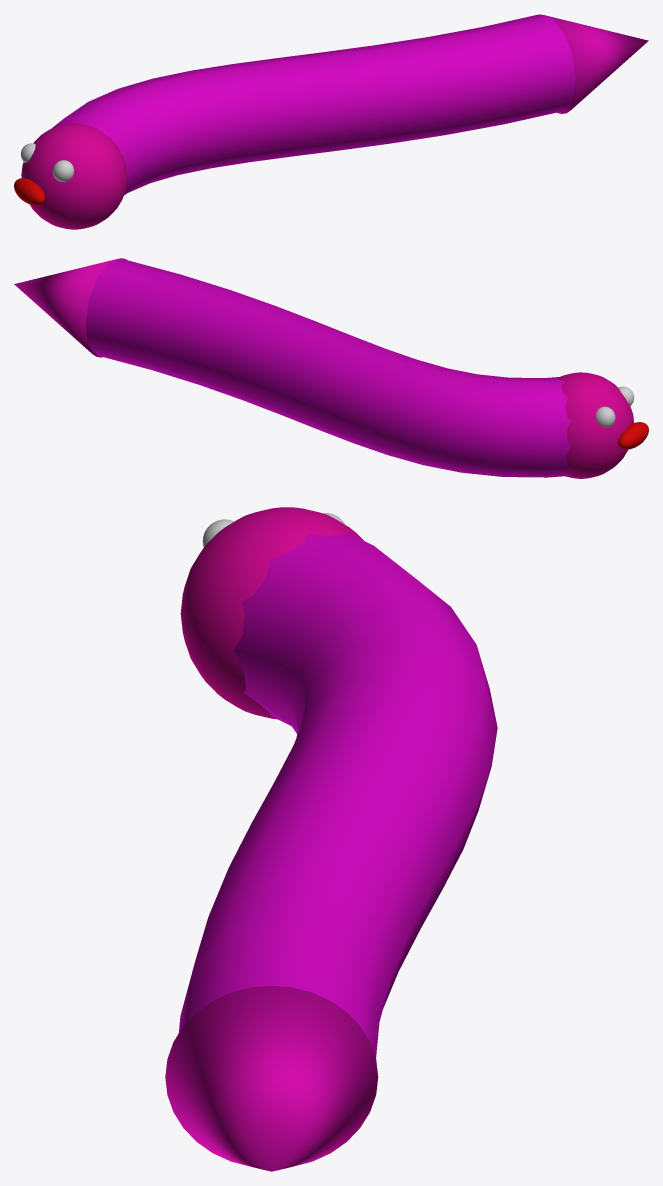
File: SnakePink.obj
3 views of the same model, one above another, from view 1: azimuth 30°, elevation 25°; view 2: azimuth 150°, elevation 25°; view 3: azimuth 270°, elevation 25° (orthographic). The views are drawn at different scales.
Visible parts, largest first — view 1: BézierCurve, Sphere, Cone, Sphere.003, Sphere.001; view 2: BézierCurve, Sphere, Cone, Sphere.003, Sphere.002; view 3: BézierCurve, Cone, Sphere.
Boxes of the visible parts, x1=… form: BézierCurve: x1=52, y1=14, x2=575, y2=195; Sphere: x1=21, y1=123, x2=127, y2=229; Cone: x1=541, y1=14, x2=648, y2=113; Sphere.003: x1=14, y1=178, x2=45, y2=205; Sphere.001: x1=52, y1=160, x2=73, y2=181; BézierCurve: x1=85, y1=259, x2=570, y2=477; Sphere: x1=558, y1=372, x2=633, y2=478; Cone: x1=14, y1=258, x2=126, y2=357; Sphere.003: x1=618, y1=422, x2=648, y2=449; Sphere.002: x1=596, y1=406, x2=615, y2=427; BézierCurve: x1=179, y1=532, x2=497, y2=1057; Cone: x1=165, y1=985, x2=378, y2=1171; Sphere: x1=180, y1=507, x2=363, y2=719.
Size of the model in its own units: 2.62 by 0.384 by 0.5994.
